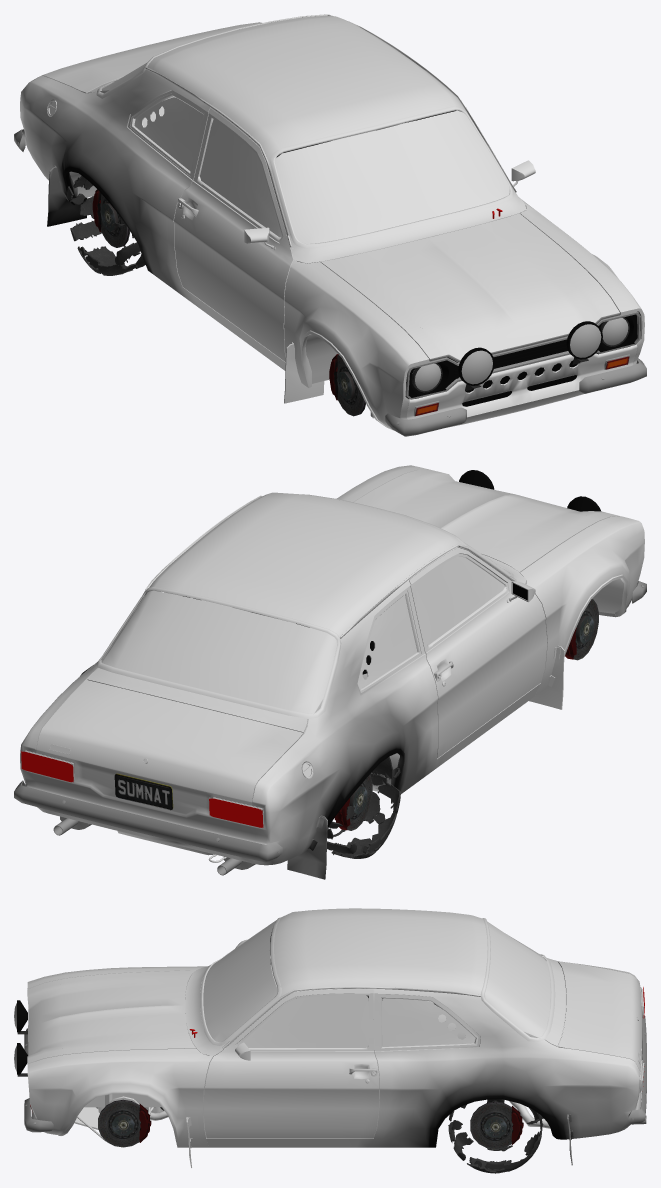
File: 06_FordEscort.fbx
The picture shows the model from 3 angles, top to bottom: view 1: azimuth 30°, elevation 25°; view 2: azimuth 150°, elevation 25°; view 3: azimuth 270°, elevation 25°; orthographic projection. The views are drawn at different scales.
Visible parts, largest first — view 1: Body_Duco, Kit_00_Duco, Body_Glass, Body_Chrome, Kit_Chrome, Kit_00_Glossy, Rotor (×2), Body_Matte, Kit_03_Glass, Kit_00_Glass, Kit_03_Glossy; view 2: Body_Duco, Body_Glass, Kit_00_Duco, Body_Chrome, Kit_Chrome, BrakeLights, Rotor (×2), Body_Matte, NumberPlate, Kit_03_Glossy; view 3: Body_Duco, Body_Glass, Kit_00_Duco, Body_Chrome, Rotor (×2), Body_Matte, Kit_Chrome, Kit_03_Glossy.
Part boxes in pixels (x1=…): Body_Duco: x1=20, y1=15, x2=644, y2=430; Kit_00_Duco: x1=320, y1=213, x2=637, y2=427; Body_Glass: x1=101, y1=63, x2=509, y2=243; Body_Chrome: x1=47, y1=14, x2=535, y2=250; Kit_Chrome: x1=14, y1=129, x2=646, y2=436; Kit_00_Glossy: x1=405, y1=208, x2=640, y2=416; Rotor (×2): x1=100, y1=194, x2=365, y2=416; Body_Matte: x1=69, y1=15, x2=516, y2=418; Kit_03_Glass: x1=461, y1=324, x2=601, y2=384; Kit_00_Glass: x1=415, y1=318, x2=628, y2=390; Kit_03_Glossy: x1=277, y1=110, x2=602, y2=391; Body_Duco: x1=20, y1=465, x2=644, y2=879; Body_Glass: x1=101, y1=542, x2=508, y2=713; Kit_00_Duco: x1=354, y1=469, x2=619, y2=617; Body_Chrome: x1=49, y1=494, x2=535, y2=862; Kit_Chrome: x1=14, y1=581, x2=646, y2=875; BrakeLights: x1=21, y1=751, x2=263, y2=828; Rotor (×2): x1=347, y1=599, x2=598, y2=830; Body_Matte: x1=100, y1=547, x2=623, y2=855; NumberPlate: x1=114, y1=773, x2=173, y2=810; Kit_03_Glossy: x1=183, y1=470, x2=600, y2=674; Body_Duco: x1=27, y1=908, x2=644, y2=1167; Body_Glass: x1=203, y1=920, x2=550, y2=1047; Kit_00_Duco: x1=27, y1=970, x2=196, y2=1119; Body_Chrome: x1=200, y1=911, x2=640, y2=1083; Rotor (×2): x1=98, y1=1099, x2=513, y2=1149; Body_Matte: x1=74, y1=928, x2=551, y2=1141; Kit_Chrome: x1=24, y1=1015, x2=646, y2=1132; Kit_03_Glossy: x1=17, y1=932, x2=438, y2=1076.
Size of what is drawn, in the model's own units: 1.77 by 1.27 by 4.
